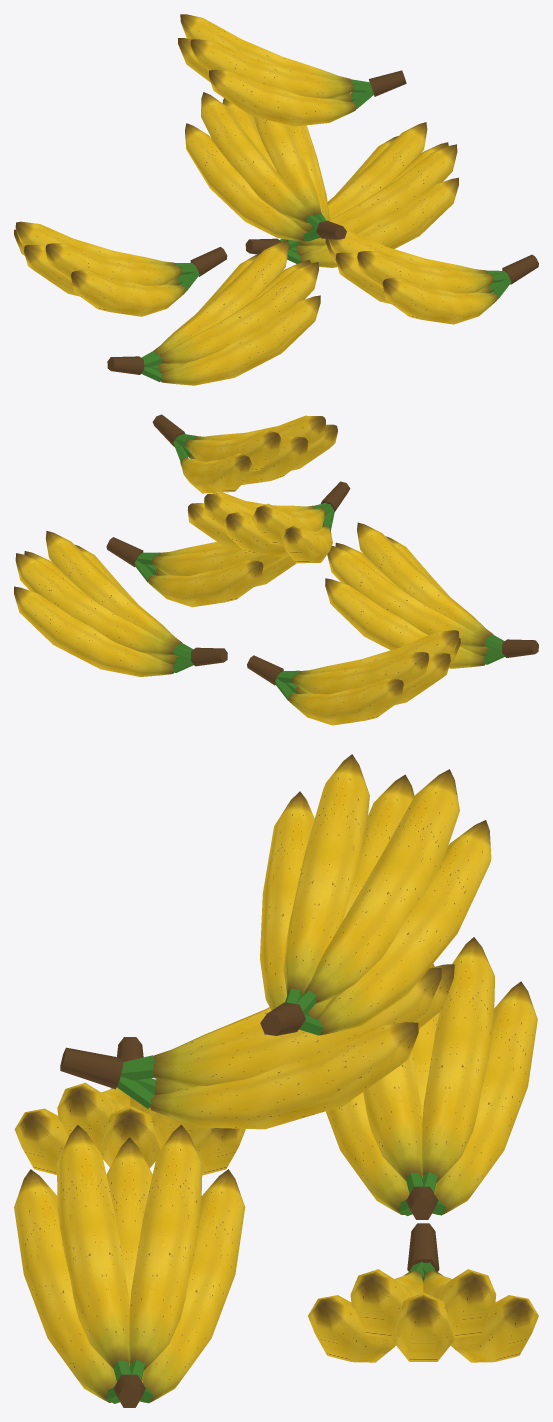
The model's file is vuena-sk-produce-pile-banana.glb.
3 views of the same model, one above another, from view 1: azimuth 30°, elevation 25°; view 2: azimuth 150°, elevation 25°; view 3: azimuth 270°, elevation 25° (orthographic). The views are drawn at different scales.
Visible parts, largest first — view 1: sk_produce_pile_banana; view 2: sk_produce_pile_banana; view 3: sk_produce_pile_banana.
Boxes of the visible parts, x1,y1,x2,y2 form: sk_produce_pile_banana: (14, 14, 538, 385); sk_produce_pile_banana: (14, 414, 538, 725); sk_produce_pile_banana: (14, 754, 538, 1407).
Size of the model in its own units: 0.417 by 0.2531 by 0.2604.
Materials: 1 (1 with a texture image).
